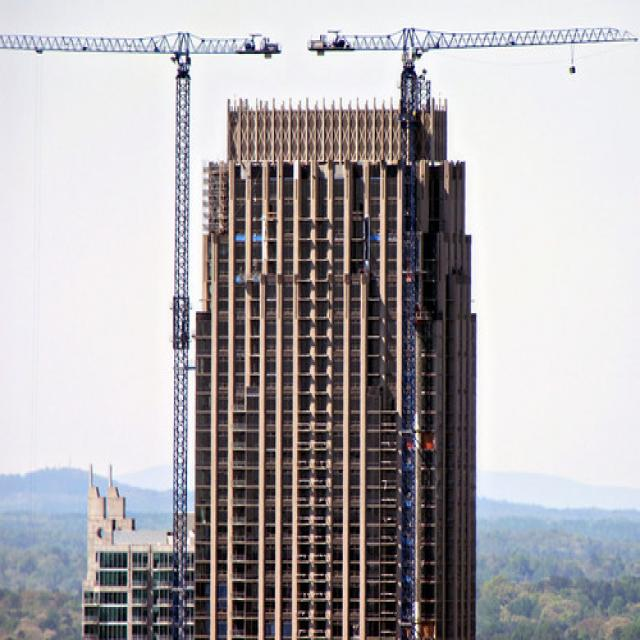Normal_building: (190, 89, 482, 634)
